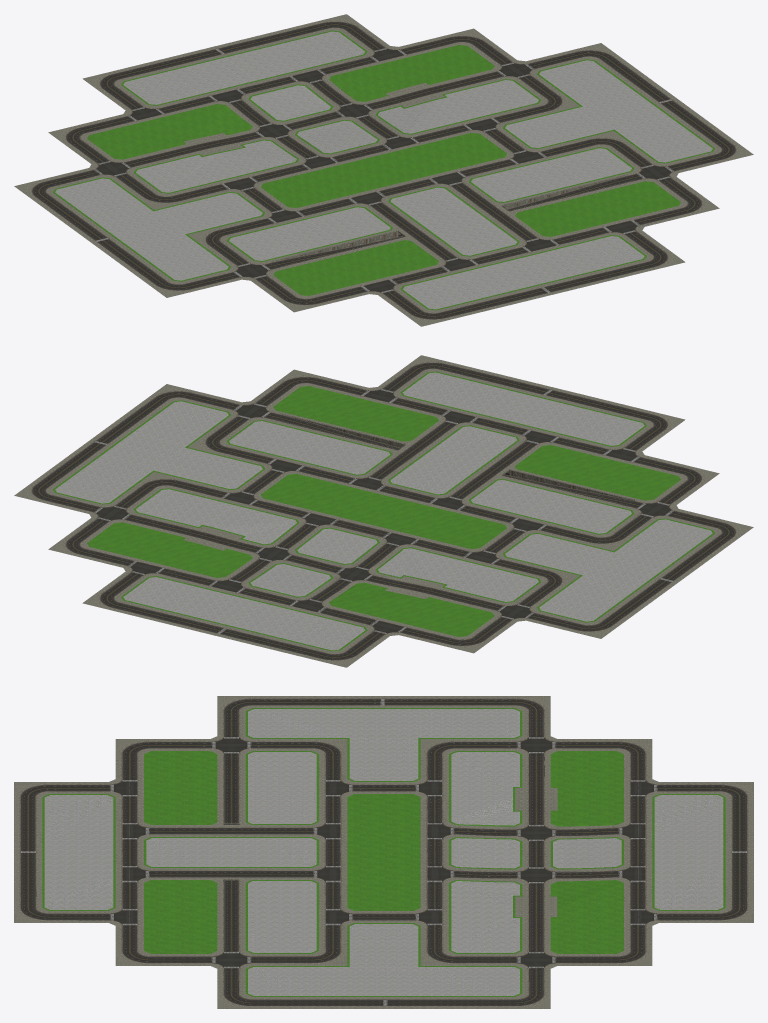
Rendered from Road.FBX.
3 renders of one model, top to bottom at view 1: azimuth 30°, elevation 25°; view 2: azimuth 150°, elevation 25°; view 3: azimuth 270°, elevation 25°, orthographic. The views are drawn at different scales.
Visible parts, largest first — view 1: Middle, Road; view 2: Middle, Road; view 3: Middle, Road.
Part boxes in pixels (x1=…): Middle: x1=53, y1=30, x2=714, y2=310; Road: x1=14, y1=14, x2=753, y2=326; Middle: x1=53, y1=371, x2=714, y2=651; Road: x1=14, y1=355, x2=753, y2=667; Middle: x1=42, y1=708, x2=725, y2=996; Road: x1=14, y1=696, x2=753, y2=1008.
Size of the model in its own units: 425 by 4.59 by 425.
3 materials, 3 textured.
